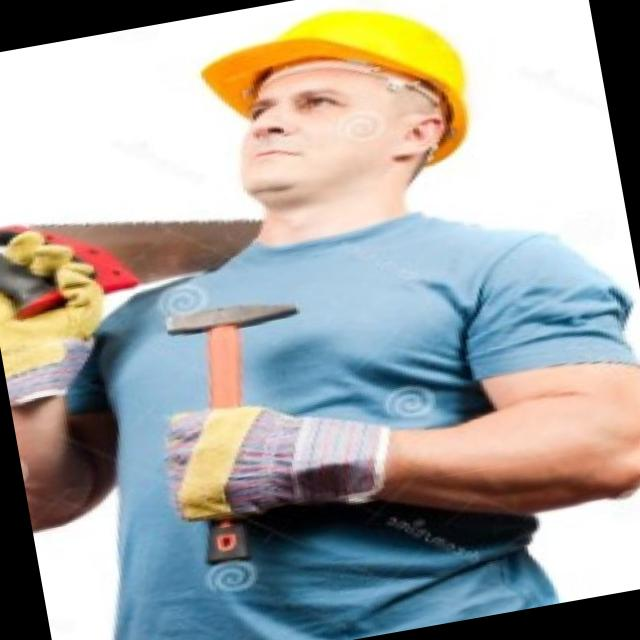gloved: (157, 374, 405, 534), (0, 206, 125, 405)
